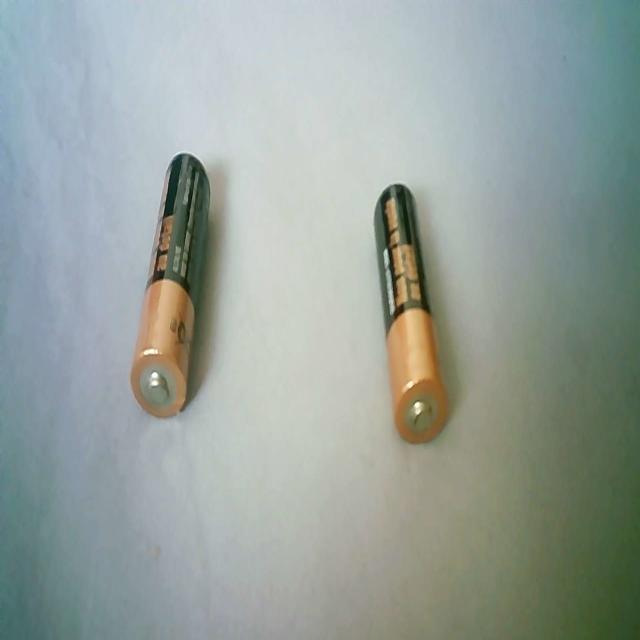AA: (129, 150, 211, 418), (372, 181, 448, 444)
